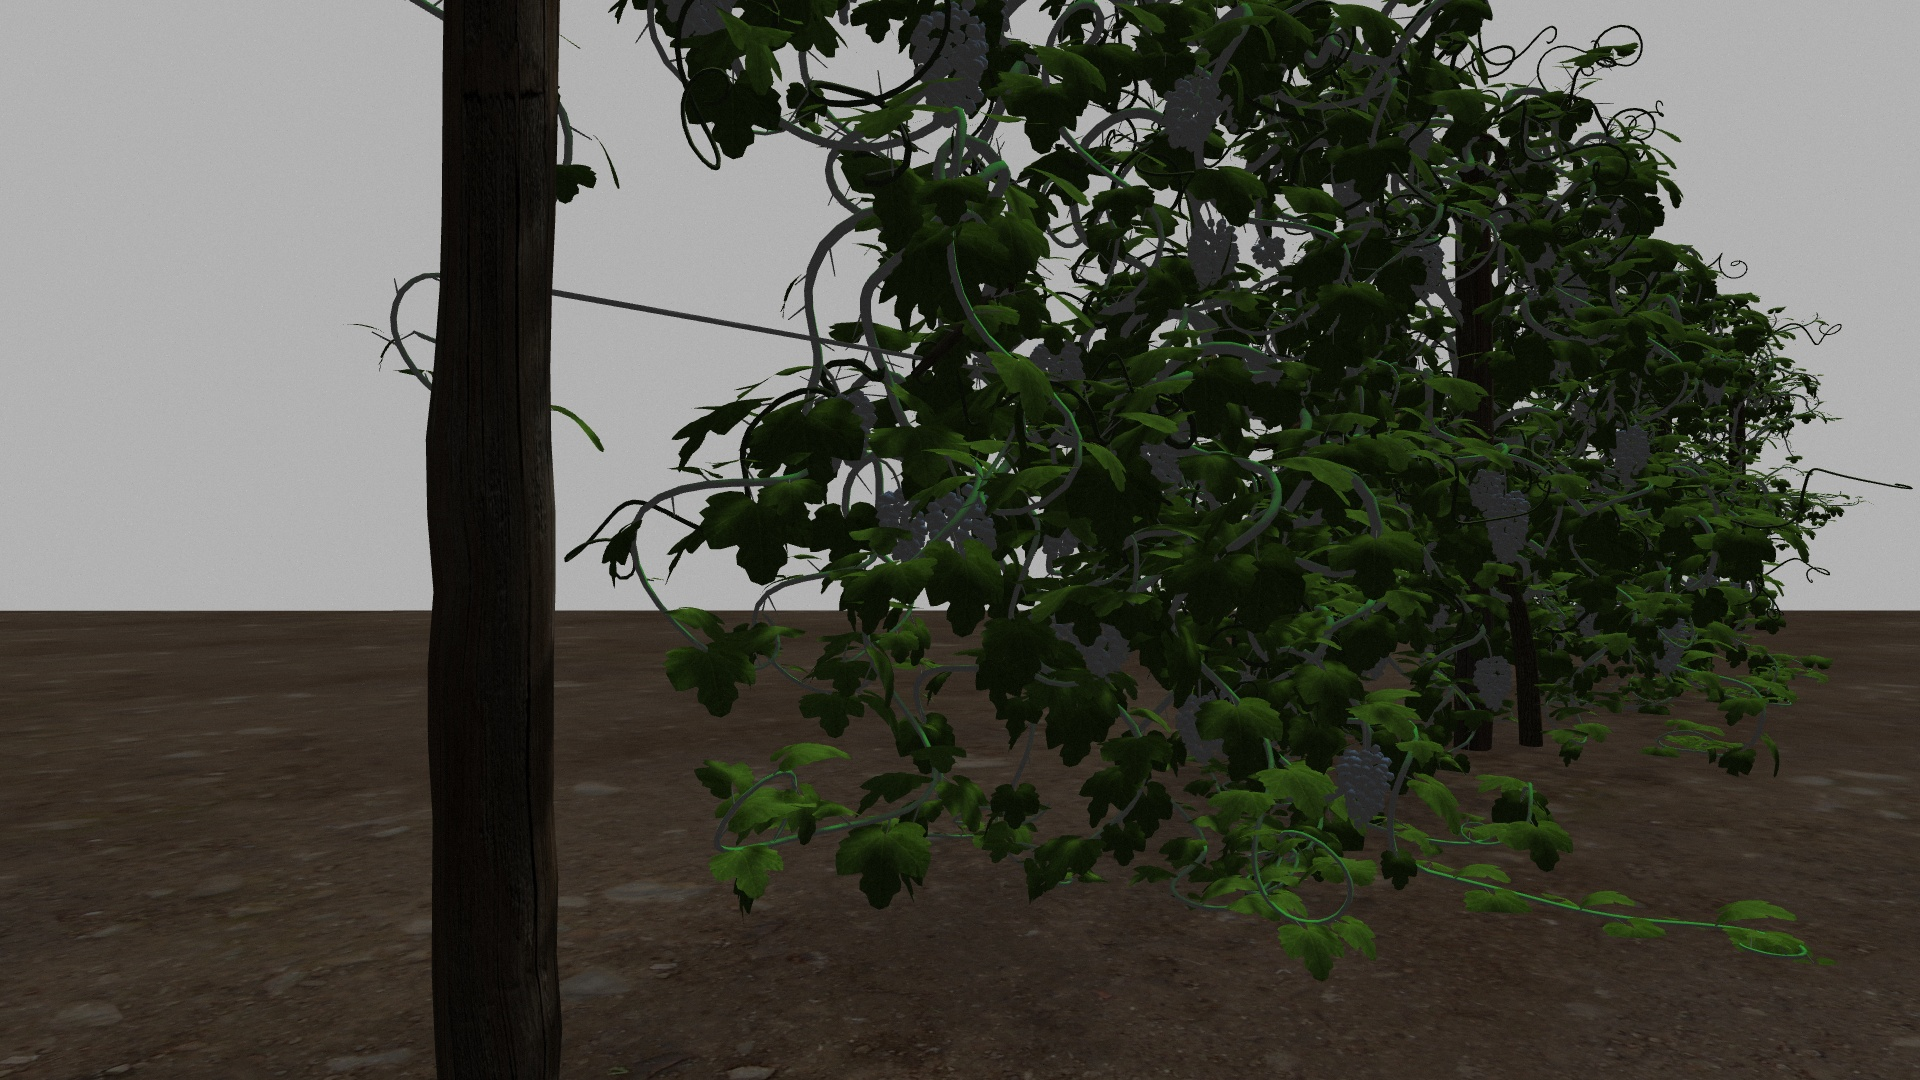grape: (913, 11, 990, 128), (1331, 742, 1396, 837), (924, 484, 997, 558), (1160, 70, 1222, 154), (1185, 215, 1241, 287), (878, 487, 928, 563), (1175, 695, 1225, 767), (1487, 497, 1530, 564), (1607, 422, 1651, 484), (1472, 655, 1514, 713), (1651, 616, 1689, 676), (1470, 468, 1503, 513), (1251, 235, 1286, 268)
